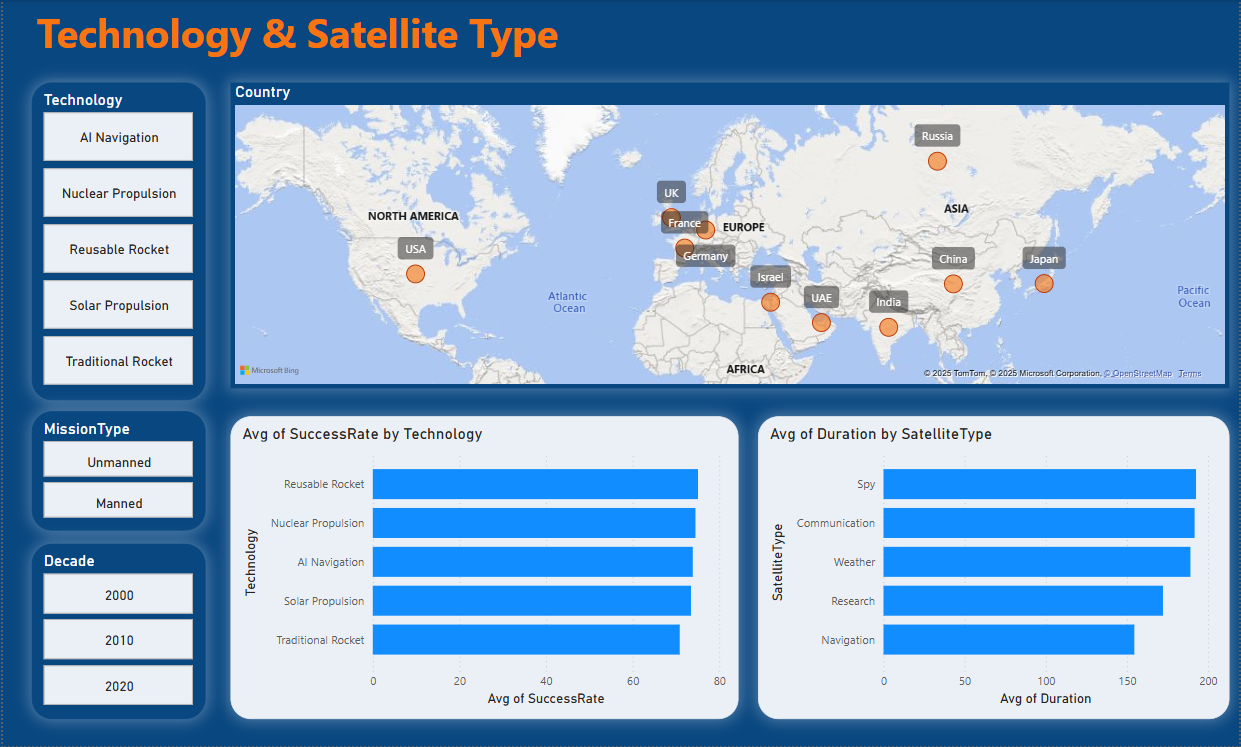

The dashboard page shown, as its layout file describes it:
{"tool":"powerbi","page":{"name":"Technology & Satellite Type","canvas":[1325,800],"ordinal":2},"visuals":[{"type":"clusteredBarChart","fields":{"Category":["DimTechnology.Technology"],"Y":["Avg(FactMissions.SuccessRate)"]},"box":[243.6,446.2,544.4,324.4],"z":0},{"type":"clusteredBarChart","fields":{"Category":["DimSatelliteType.SatelliteType"],"Y":["Avg(FactMissions.Duration)"]},"box":[809.2,446.2,505.9,324.4],"z":1000},{"type":"advancedSlicerVisual","fields":{"Values":["DimTechnology.Technology"]},"box":[31.1,88.3,186.4,340.6],"z":2000},{"type":"advancedSlicerVisual","fields":{"Values":["DimMissionType.MissionType"]},"box":[31.1,441.3,186.4,128],"z":3000},{"type":"advancedSlicerVisual","fields":{"Values":["DimYear.Decade"]},"box":[31.1,583,186.4,187.7],"z":4000},{"type":"map","fields":{"Category":["DimCountry.Country"]},"box":[243.6,88.3,1071.4,328.1],"z":5000},{"type":"textbox","box":[31.1,0,617.8,73.3],"z":5001}]}

Visuals, with their boxes in screenshot pixels (x1, y1, x2, y2), scaled from the page's 1325x800 canvas onto the 1241x747 screenshot:
clusteredBarChart - DimTechnology.Technology x Avg(FactMissions.SuccessRate): bbox=[228, 417, 738, 720]
clusteredBarChart - DimSatelliteType.SatelliteType x Avg(FactMissions.Duration): bbox=[758, 417, 1232, 720]
advancedSlicerVisual - DimTechnology.Technology: bbox=[29, 82, 204, 400]
advancedSlicerVisual - DimMissionType.MissionType: bbox=[29, 412, 204, 532]
advancedSlicerVisual - DimYear.Decade: bbox=[29, 544, 204, 720]
map - DimCountry.Country: bbox=[228, 82, 1232, 389]
textbox: bbox=[29, 0, 608, 68]
